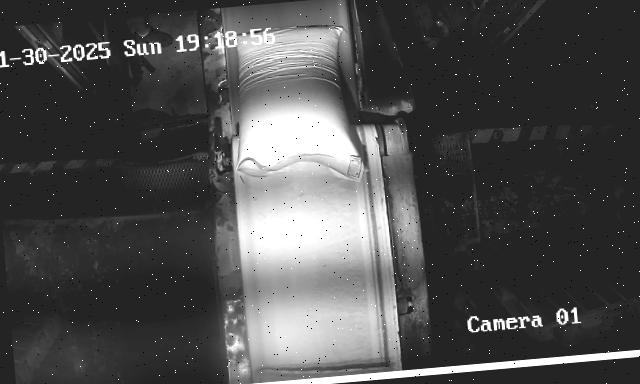bag: (225, 23, 368, 192)
